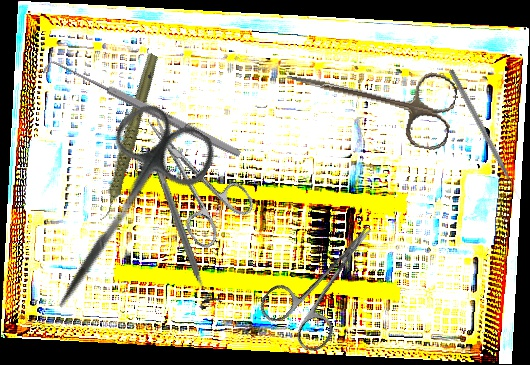Fixation Ring: (144, 155, 223, 311)
Handpiece: (63, 51, 191, 224)
Hook Surgical: (42, 54, 243, 167), (447, 68, 523, 201)
Iris Scissors: (21, 94, 223, 335), (254, 203, 402, 359), (124, 97, 261, 252), (277, 43, 461, 153)
